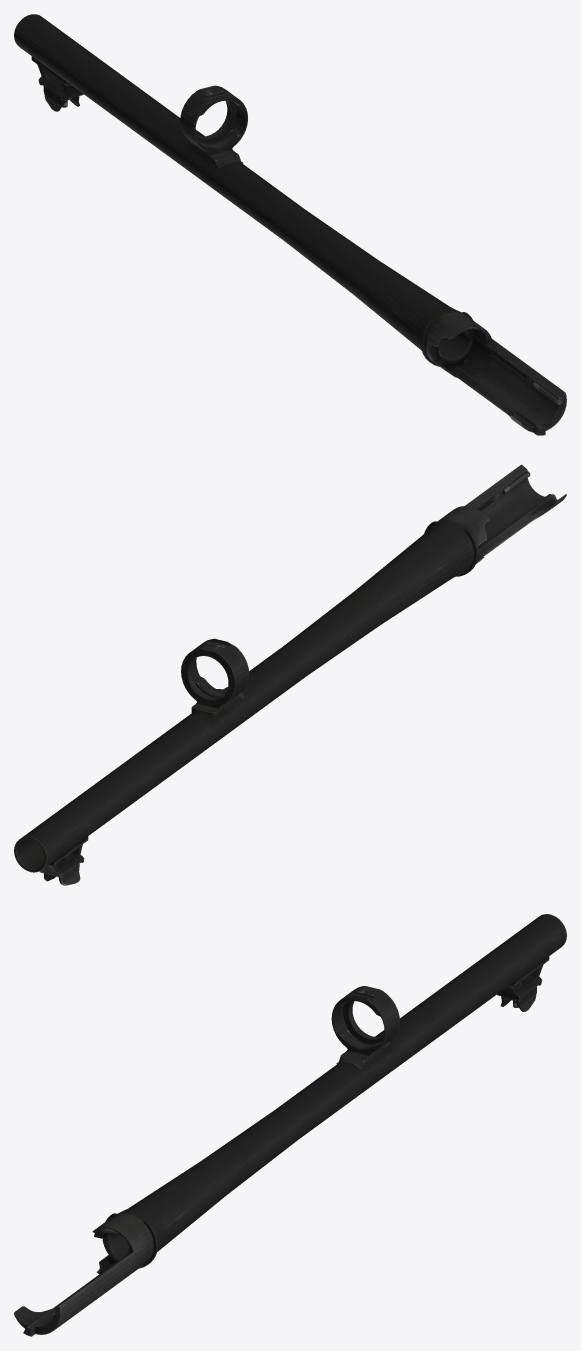
3 renders of one model, top to bottom at view 1: azimuth 30°, elevation 25°; view 2: azimuth 150°, elevation 25°; view 3: azimuth 330°, elevation 25°, orthographic.
Visible parts, largest first — view 1: TW_6259c2c1d714855d182bad85_PZ_Import; view 2: TW_6259c2c1d714855d182bad85_PZ_Import; view 3: TW_6259c2c1d714855d182bad85_PZ_Import.
Boxes of the visible parts, x1,y1,x2,y2 form: TW_6259c2c1d714855d182bad85_PZ_Import: [14, 14, 566, 435]; TW_6259c2c1d714855d182bad85_PZ_Import: [14, 464, 566, 885]; TW_6259c2c1d714855d182bad85_PZ_Import: [14, 914, 566, 1336].
Bounding box in the file's own units: 0.0211 × 0.3495 × 0.0469.
Materials: 1 (1 with a texture image).
